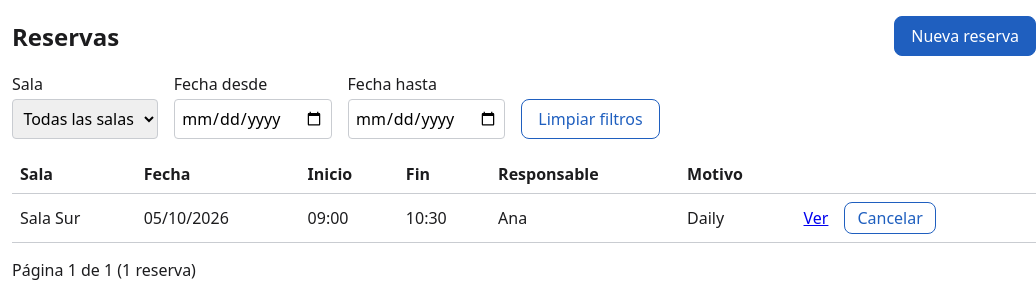
Test case: ReservaListComponent › rango de fechas y selector de sala › rango invertido: no lanza petición y muestra el error
Type "2026-10-10" into the date field with id "filtro-fecha-desde" at (253, 119), box [174,99,332,139]
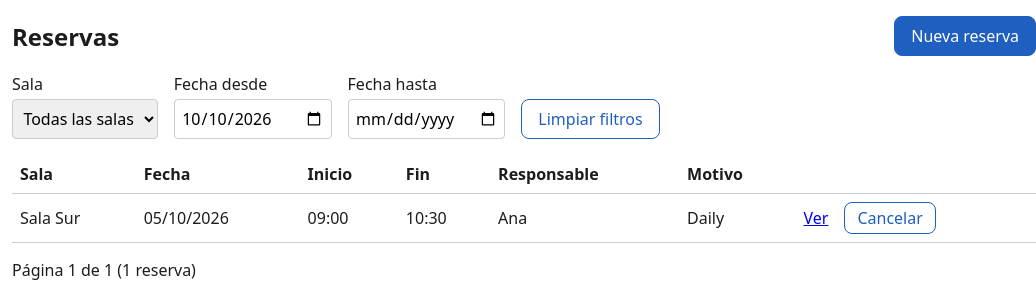
Type "2026-10-05" into the date field with id "filtro-fecha-hasta" at (426, 119), box [348,99,505,139]
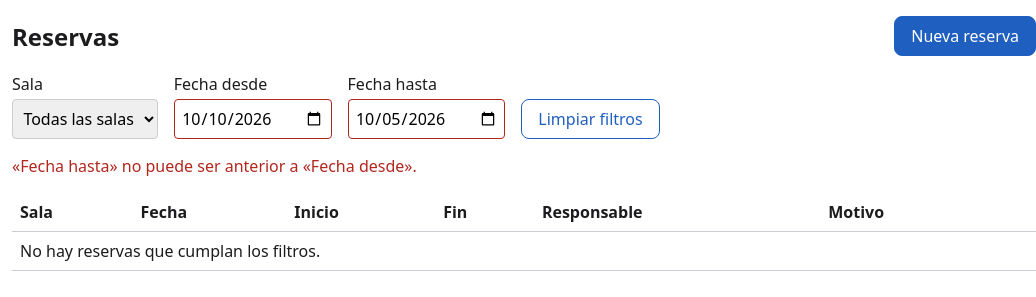
Expected: the text with class "error" shows "no puede ser anterior", [12,155,417,177]
